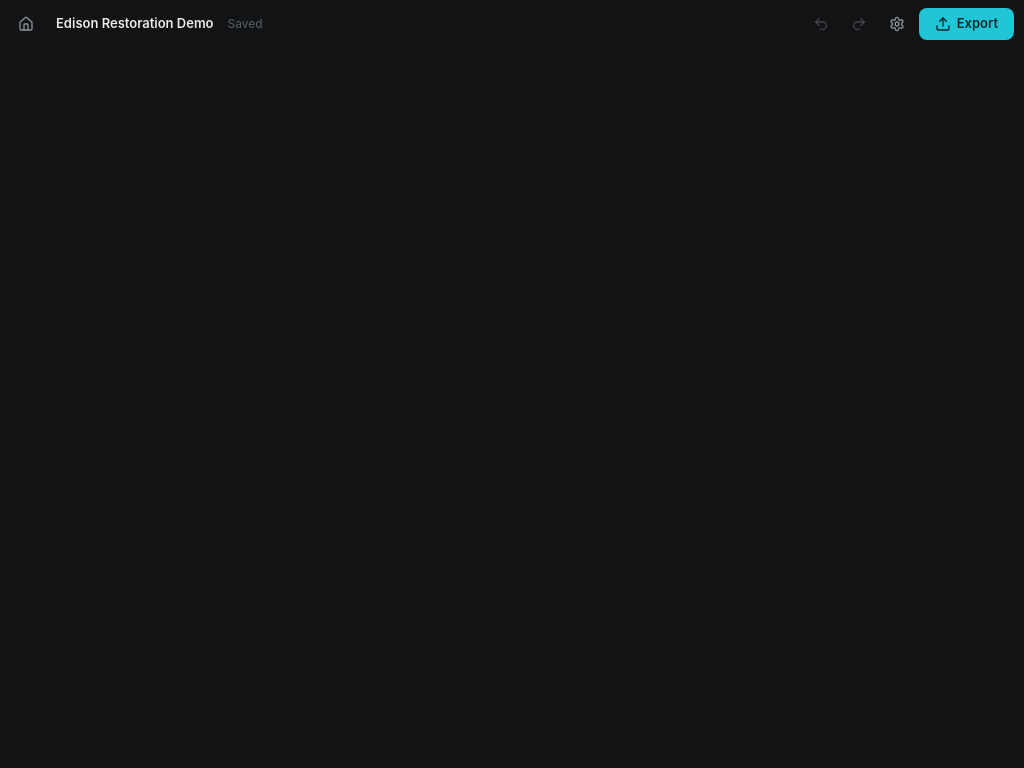
Test: TopBar › opens the Export popover from the Export button
The width and height of the screenshot is (1024, 768).
What coordinates should you click on to do the following:
click the button "Export"
I would click on:
 (966, 24)
Its box is [919, 8, 1014, 40].
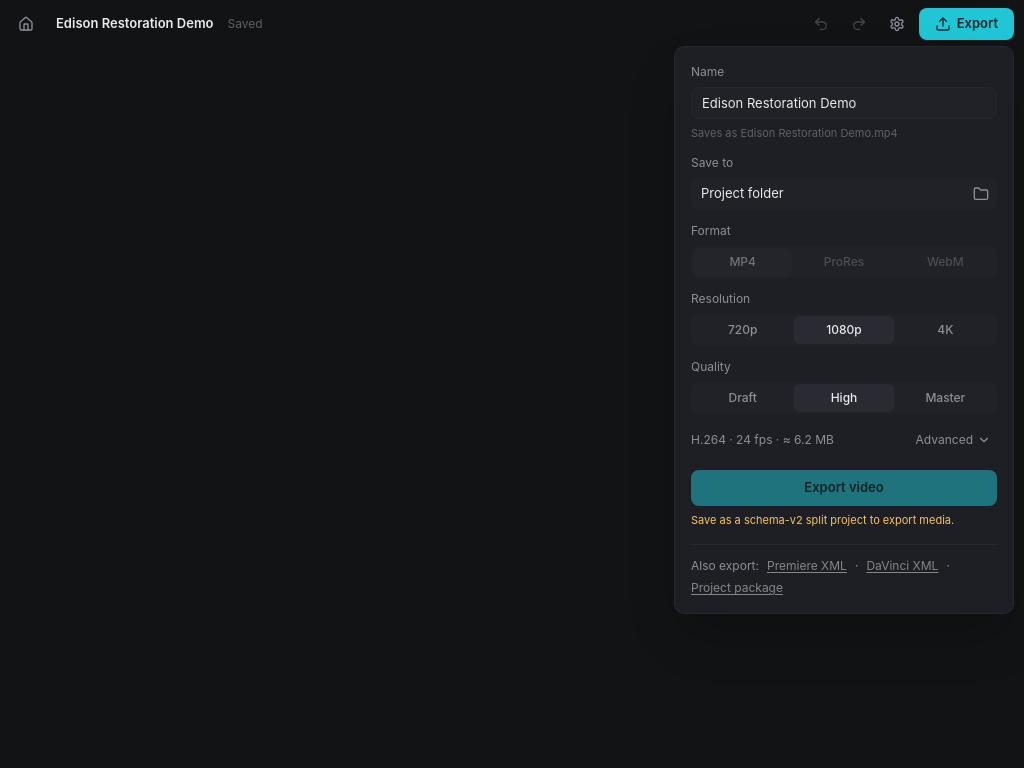
Expected: the dialog named "Export" is shown, [674, 46, 1014, 614]
